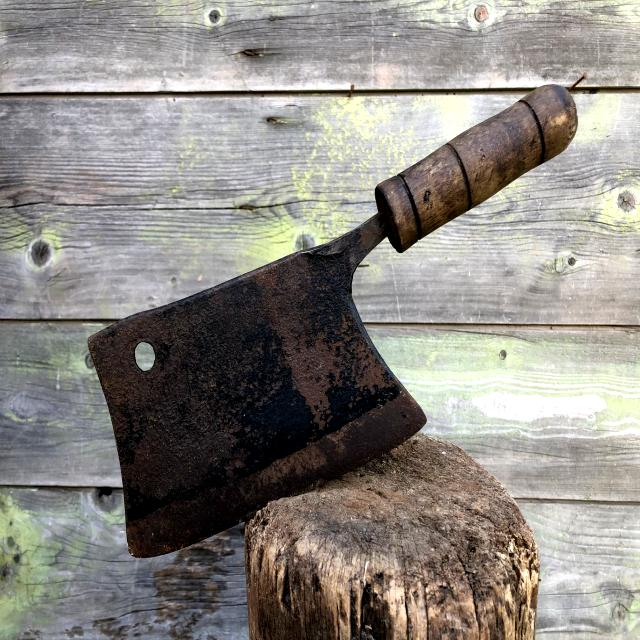cleaver: (97, 81, 584, 559)
